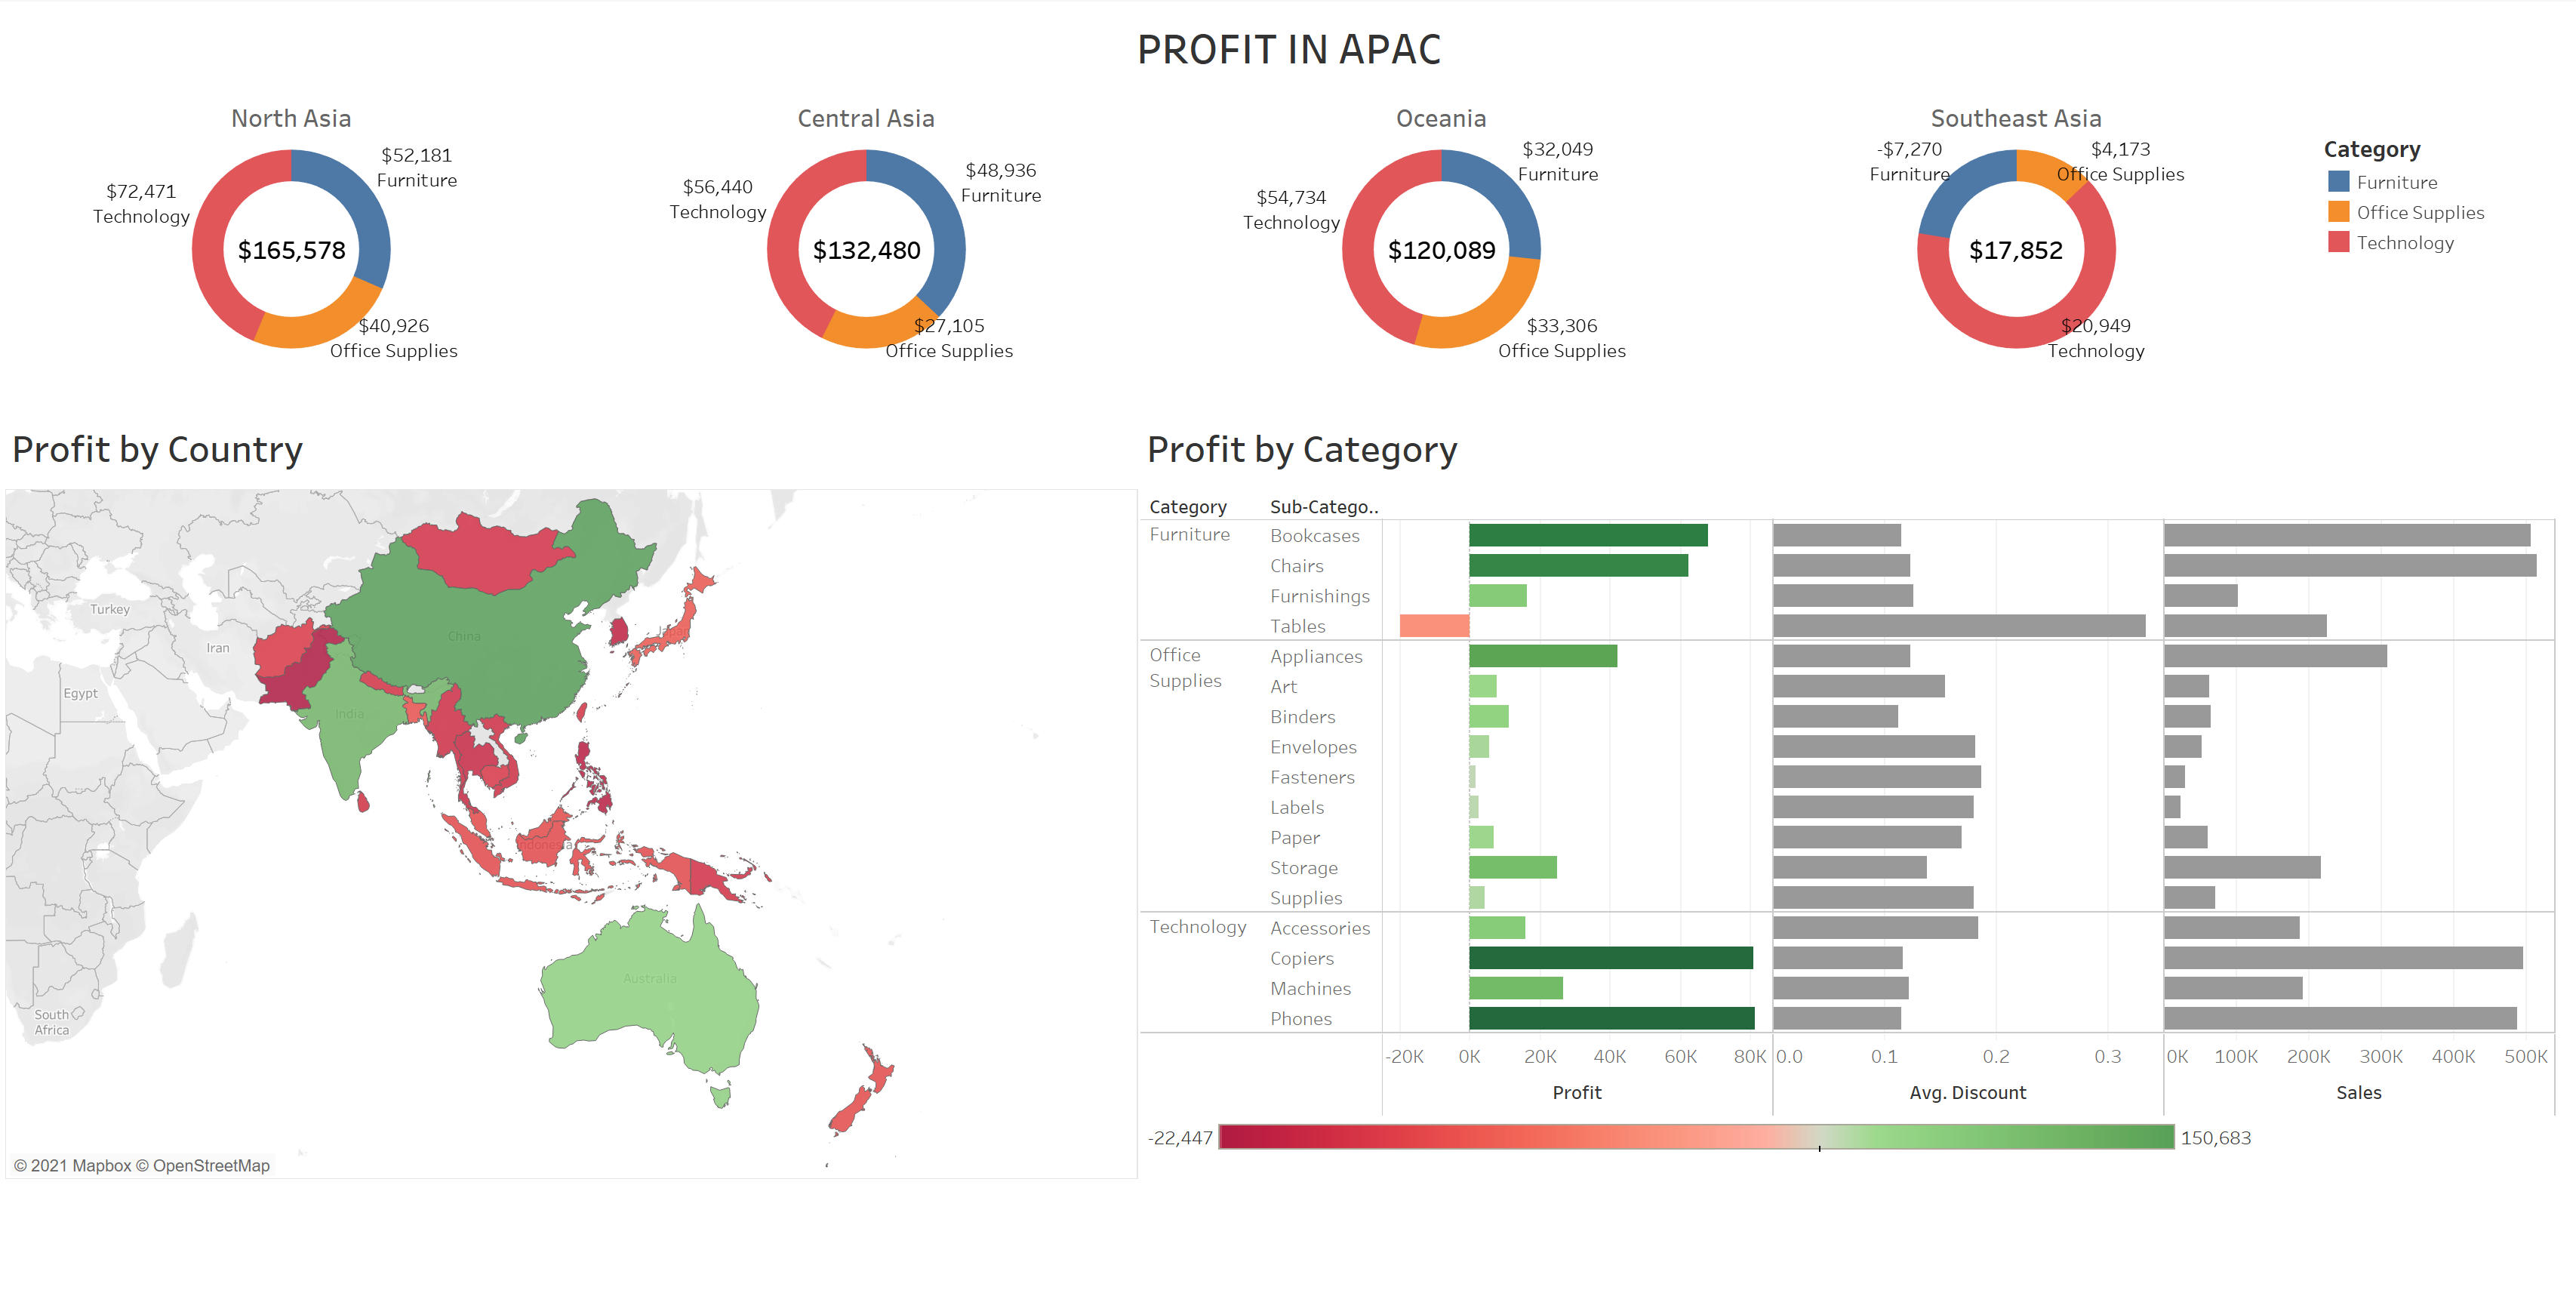

What the dashboard file says about the page in this screenshot:
{"tool":"tableau","page":{"name":"Profitability in APAC","canvas":[1000,1000],"units":"permille","ordinal":2},"visuals":[{"type":"worksheet","box":[0,0,1000,1000]},{"type":"worksheet","param":"horz","box":[4.4,7.6,991.3,984.9]},{"type":"worksheet","box":[4.4,7.6,904.2,984.9]},{"type":"worksheet","param":"horz","box":[4.4,7.6,904.2,984.9]},{"type":"worksheet","box":[4.4,7.6,904.2,984.9]},{"type":"worksheet","param":"horz","box":[4.4,7.6,904.2,984.9]},{"type":"worksheet","box":[4.4,7.6,904.2,984.9]},{"type":"worksheet","param":"horz","box":[4.4,7.6,904.2,984.9]},{"type":"worksheet","box":[4.4,7.6,904.2,984.9]},{"type":"worksheet","param":"horz","box":[4.4,7.6,904.2,984.9]},{"type":"worksheet","param":"horz","box":[4.4,7.6,904.2,984.9]},{"type":"worksheet","param":"vert","box":[4.4,7.6,904.2,984.9]},{"type":"worksheet","box":[4.4,7.6,904.2,42.5]},{"type":"worksheet","param":"vert","box":[908.6,7.6,87.1,984.9]},{"type":"worksheet","title":"Profit by Country","mark":"Automatic","param":"[federated.08ozres1u7hp15124o1m01t1wqu5].[sum:Profit:qk]","box":[908.6,7.6,87.1,61.4]},{"type":"worksheet","title":"Profit Donuts","mark":"Pie","rows":["Calculation_2080381565389438977","Calculation_2080381565389438977"],"cols":["Region","Region (copy)_2080381565391491074"],"box":[1.8,60.5,891.8,321.1]},{"type":"worksheet","title":"Profit Donuts","mark":"Pie","rows":["Calculation_2080381565389438977","Calculation_2080381565389438977"],"cols":["Region","Region (copy)_2080381565391491074"],"param":"[federated.08ozres1u7hp15124o1m01t1wqu5].[none:Category:nk]","box":[901.1,101.6,81.9,109.2]},{"type":"worksheet","title":"Profits","mark":"Automatic","rows":["Profit"],"cols":["Category","Sub-Category"],"box":[442.9,402.2,528.4,581.6]},{"type":"worksheet","title":"Profit by Country","mark":"Automatic","box":[6.4,417.3,430.7,565.4]},{"type":"worksheet","title":"Profits","mark":"Automatic","rows":["Profit"],"cols":["Category","Sub-Category"],"param":"[federated.08ozres1u7hp15124o1m01t1wqu5].[none:Region:nk]","box":[900.5,442.2,81.9,107]}]}

Visuals, with their boxes on the dashboard's canvas, which has no fixed pixel size, in thousandths of its width and height (x1, y1, x2, y2). These are canvas units, not pixel positions in the 2576x1296 screenshot, which may show the page scaled, cropped or inside an application window:
worksheet: x1=0, y1=0, x2=1000, y2=1000
worksheet: x1=4, y1=8, x2=996, y2=992
worksheet: x1=4, y1=8, x2=909, y2=992
worksheet: x1=4, y1=8, x2=909, y2=992
worksheet: x1=4, y1=8, x2=909, y2=992
worksheet: x1=4, y1=8, x2=909, y2=992
worksheet: x1=4, y1=8, x2=909, y2=992
worksheet: x1=4, y1=8, x2=909, y2=992
worksheet: x1=4, y1=8, x2=909, y2=992
worksheet: x1=4, y1=8, x2=909, y2=992
worksheet: x1=4, y1=8, x2=909, y2=992
worksheet: x1=4, y1=8, x2=909, y2=992
worksheet: x1=4, y1=8, x2=909, y2=50
worksheet: x1=909, y1=8, x2=996, y2=992
"Profit by Country" worksheet: x1=909, y1=8, x2=996, y2=69
"Profit Donuts" worksheet (Pie marks): x1=2, y1=60, x2=894, y2=382
"Profit Donuts" worksheet (Pie marks): x1=901, y1=102, x2=983, y2=211
"Profits" worksheet: x1=443, y1=402, x2=971, y2=984
"Profit by Country" worksheet: x1=6, y1=417, x2=437, y2=983
"Profits" worksheet: x1=900, y1=442, x2=982, y2=549
